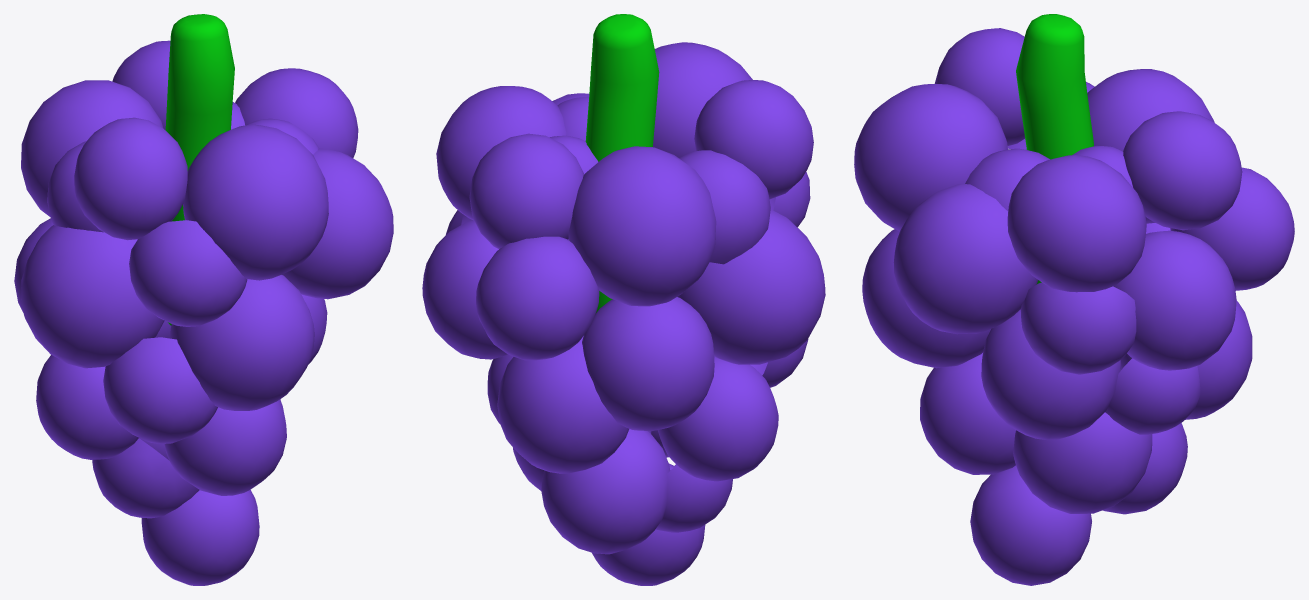
Rendered from Grapes.fbx.
The picture shows the model from 3 angles, left to right: view 1: azimuth 30°, elevation 25°; view 2: azimuth 150°, elevation 25°; view 3: azimuth 270°, elevation 25°; orthographic projection. The views are drawn at different scales.
Parts seen in each view (by area): view 1: Grapes; view 2: Grapes; view 3: Grapes.
Boxes of the visible parts, x1,y1,x2,y2 form: Grapes: (14, 14, 393, 585); Grapes: (422, 14, 825, 585); Grapes: (854, 14, 1294, 585).
Bounding box in the file's own units: 100 × 156 × 110.
1 material, 1 textured.
